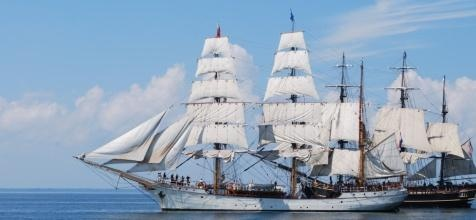fanchuan: (71, 7, 419, 211), (402, 57, 474, 206)
